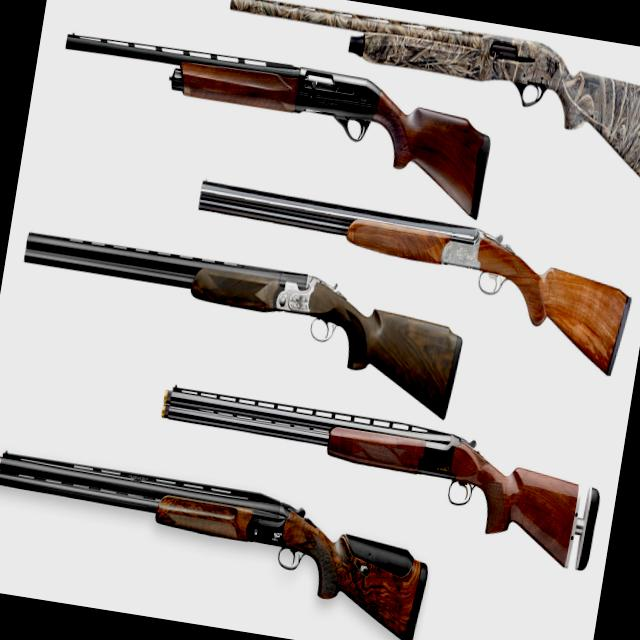shotgun: (0, 445, 457, 640), (143, 374, 615, 532), (196, 178, 640, 309)
